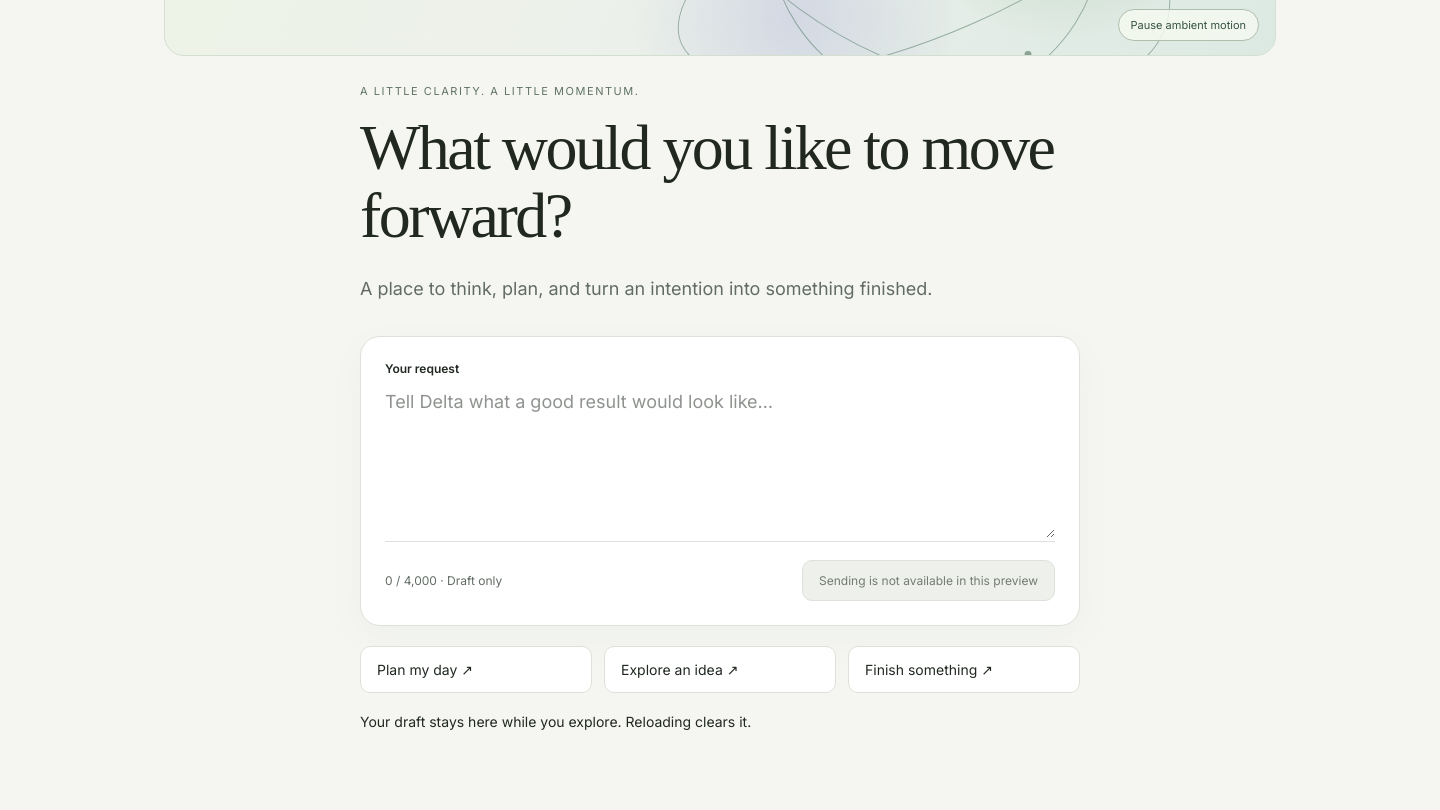
Test: lets a request starter populate an editable draft without executing it
(page scrolled)
What coordinates should you click on to do the following:
click the button "Plan my day ↗"
I would click on:
 (476, 669)
Its box is [360, 646, 592, 693].
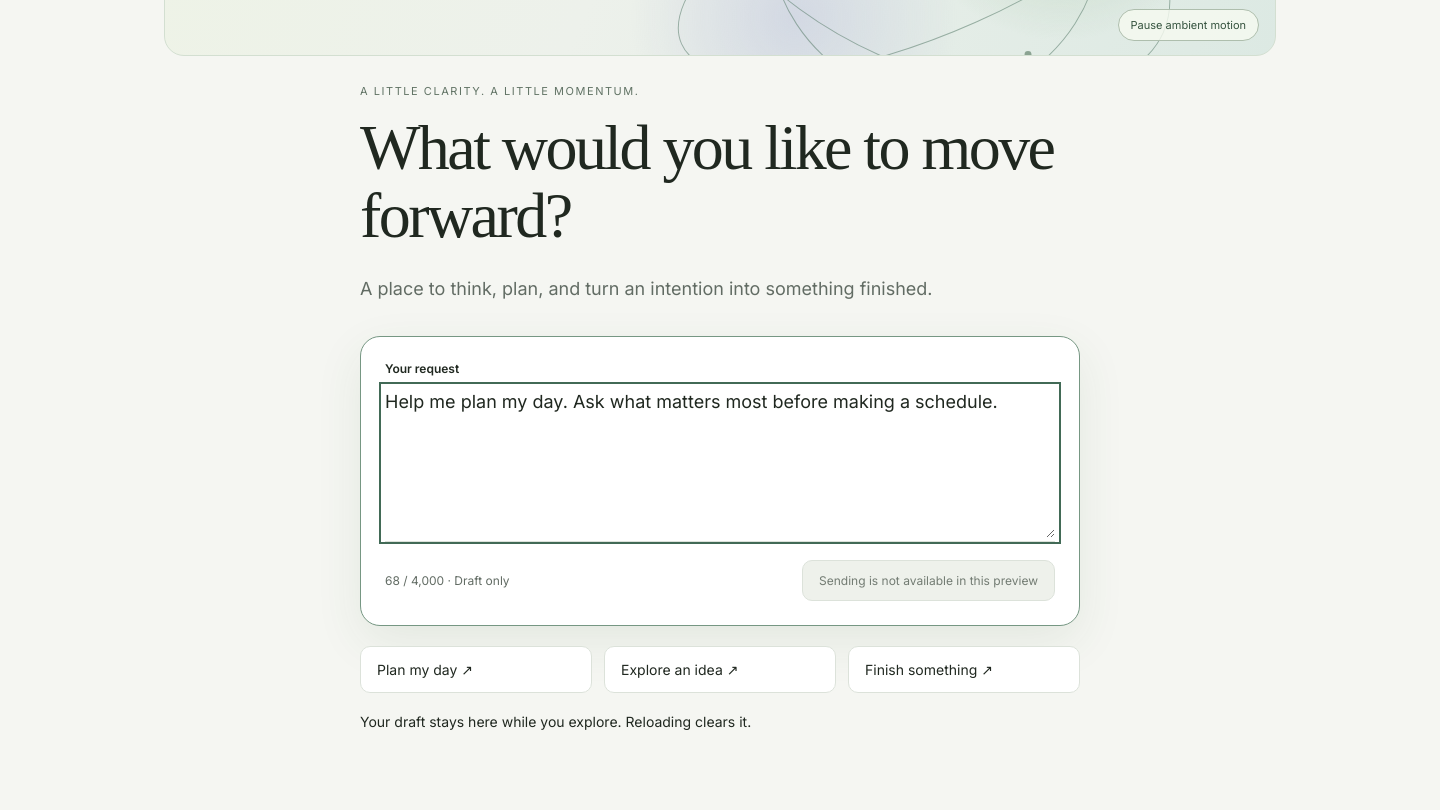
Check: the button "Sending is not available in this preview" is disabled, box [802, 560, 1055, 601]
Check: the text box labelled "Your request" holds "Help me plan my day. Ask what matters most before making a schedule.", box [385, 388, 1055, 538]
